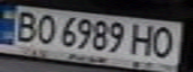6: (54, 15, 78, 48)
8: (90, 17, 112, 52)
9: (106, 19, 130, 54), (72, 16, 93, 51)
B: (9, 8, 42, 43)
H: (127, 21, 160, 57)
O: (148, 25, 181, 60), (30, 11, 60, 45)
